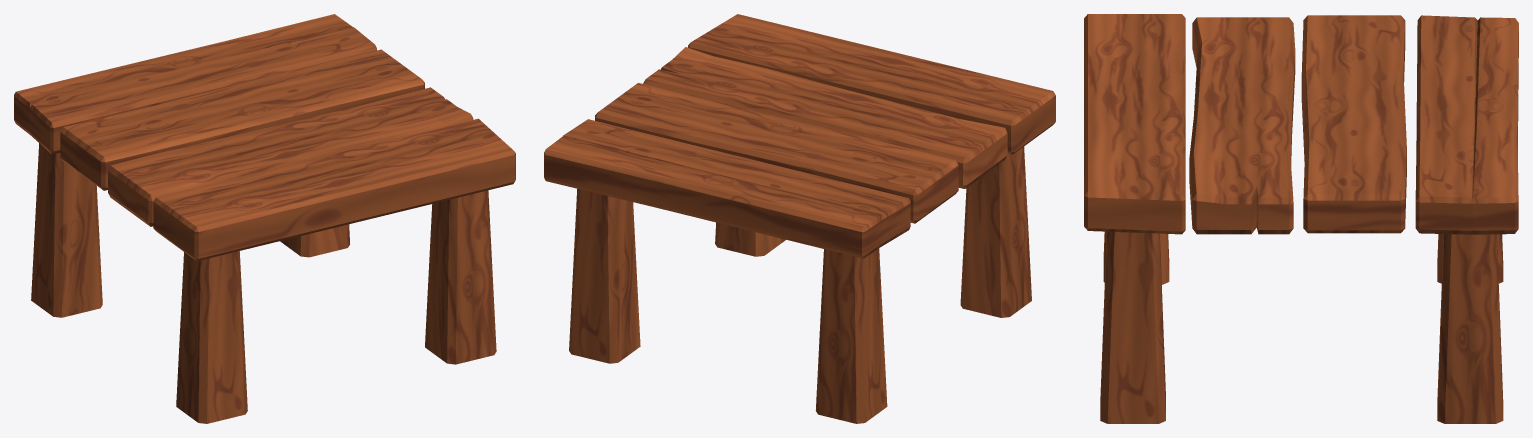
File: SM_Square_Table 1.fbx
3 views of the same model, side by side, from view 1: azimuth 30°, elevation 25°; view 2: azimuth 150°, elevation 25°; view 3: azimuth 270°, elevation 25° (orthographic). The views are drawn at different scales.
Parts seen in each view (by area): view 1: SM_Square_Table; view 2: SM_Square_Table; view 3: SM_Square_Table.
Part boxes in pixels (x1=…): SM_Square_Table: x1=14, y1=14, x2=515, y2=423; SM_Square_Table: x1=544, y1=14, x2=1055, y2=423; SM_Square_Table: x1=1084, y1=14, x2=1518, y2=423.
Bounding box in the file's own units: 107 × 64.03 × 106.
